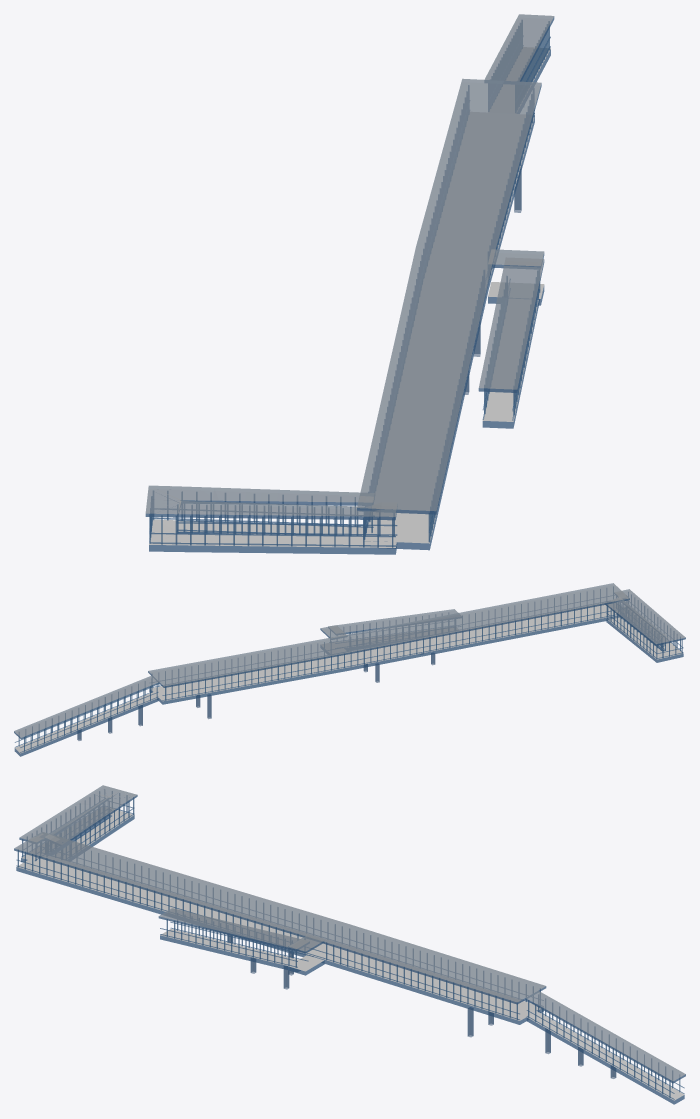
The model's file is PASSAR.preview.glb.
3 renders of one model, top to bottom at view 1: azimuth 30°, elevation 25°; view 2: azimuth 150°, elevation 25°; view 3: azimuth 270°, elevation 25°, orthographic. The views are drawn at different scales.
Parts seen in each view (by area): view 1: obj_62870, obj_8a80, obj_3d260; view 2: obj_62870, obj_8a80, obj_3d260; view 3: obj_62870, obj_8a80, obj_3d260.
Boxes of the visible parts, left/top/right/bottom form: obj_62870: left=145, top=74, right=544, bottom=542; obj_8a80: left=149, top=47, right=550, bottom=547; obj_3d260: left=149, top=14, right=554, bottom=554; obj_62870: left=138, top=583, right=685, bottom=700; obj_8a80: left=15, top=603, right=683, bottom=753; obj_3d260: left=14, top=586, right=683, bottom=756; obj_62870: left=14, top=785, right=546, bottom=1020; obj_8a80: left=17, top=807, right=684, bottom=1100; obj_3d260: left=16, top=791, right=685, bottom=1104.
Bounding box in the file's own units: 547 × 59.76 × 595.
